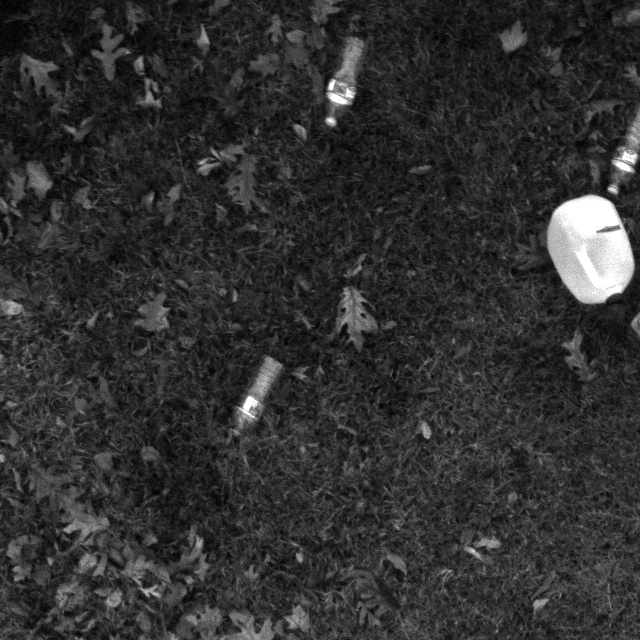bottle: (310, 35, 369, 137), (223, 357, 290, 444)
can: (540, 188, 640, 306)
